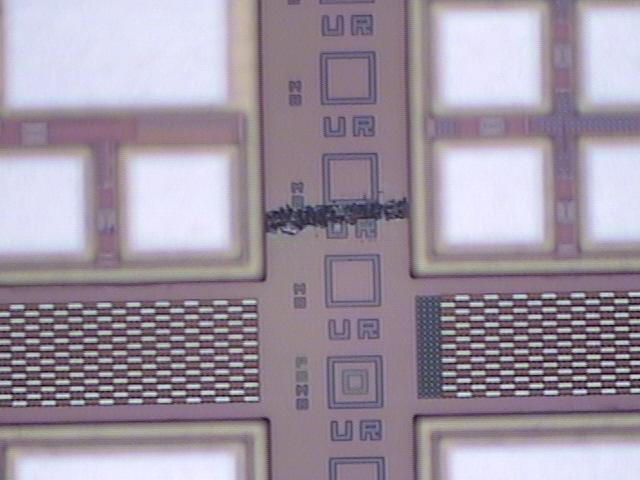SCRATCH: (256, 197, 415, 240)
